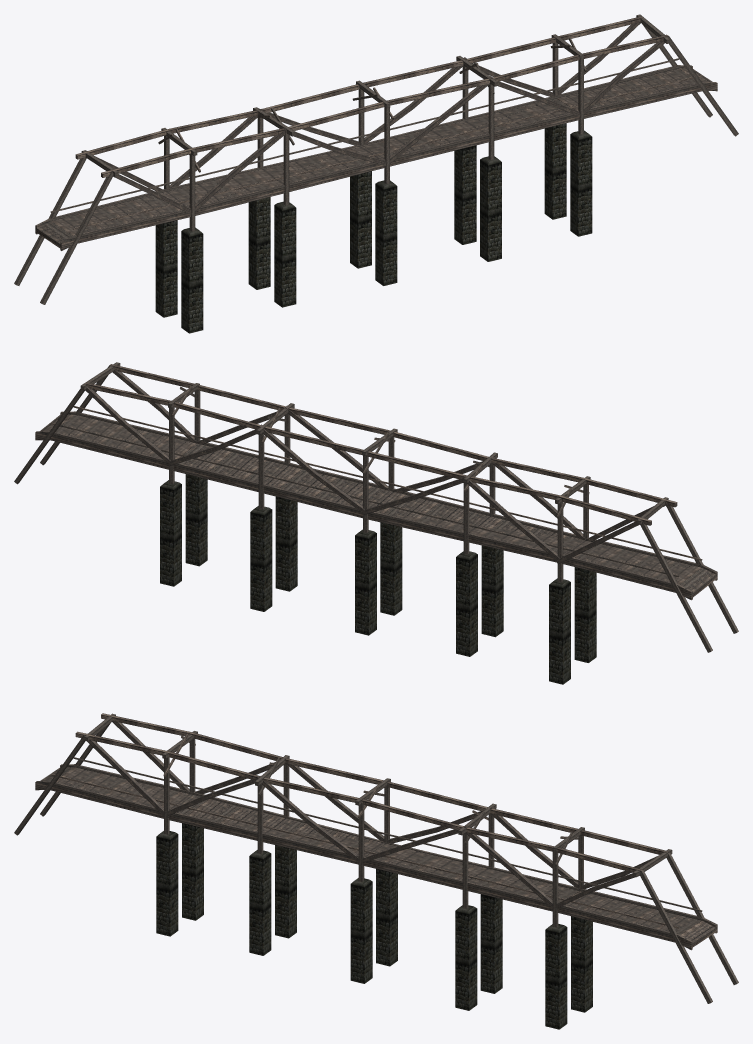
The model's file is Brdg02.glb.
3 renders of one model, top to bottom at view 1: azimuth 30°, elevation 25°; view 2: azimuth 150°, elevation 25°; view 3: azimuth 330°, elevation 25°, orthographic.
Parts seen in each view (by area): view 1: _Brdg02; view 2: _Brdg02; view 3: _Brdg02.
Part boxes in pixels (x1=…): _Brdg02: x1=14, y1=14, x2=738, y2=333; _Brdg02: x1=14, y1=362, x2=738, y2=684; _Brdg02: x1=14, y1=713, x2=738, y2=1029.
Size of the model in its own units: 99.91 by 25.91 by 9.13.
2 materials, 2 textured.
